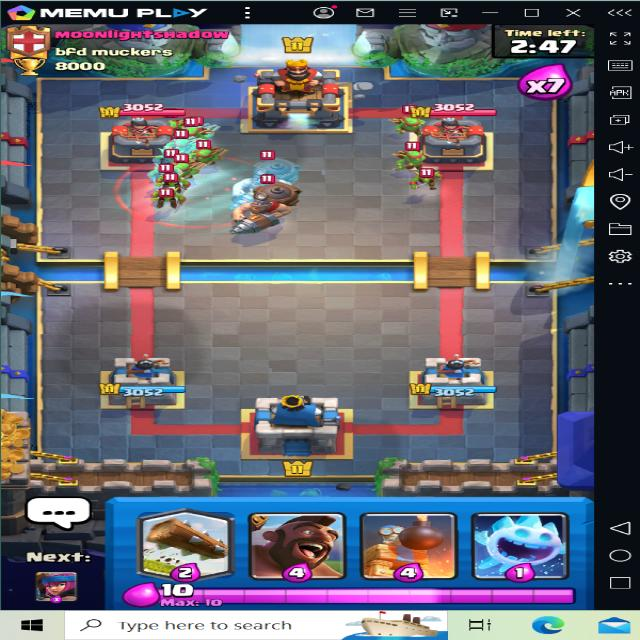Clone: (120, 149, 256, 227)
Goblin: (404, 166, 447, 189), (151, 185, 186, 208), (151, 172, 186, 193)
Mightyminer: (230, 174, 308, 242)
Speargoblin: (387, 142, 426, 169), (390, 111, 427, 138), (182, 118, 218, 141), (194, 144, 231, 165)
